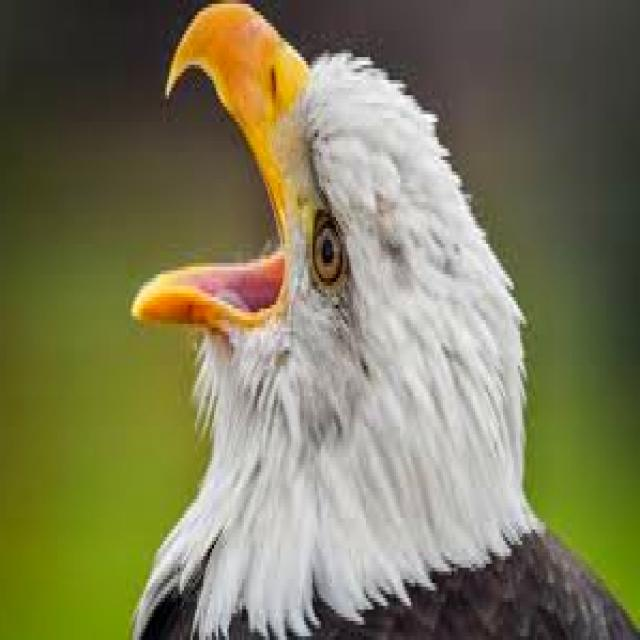eagle: (135, 4, 640, 636)
